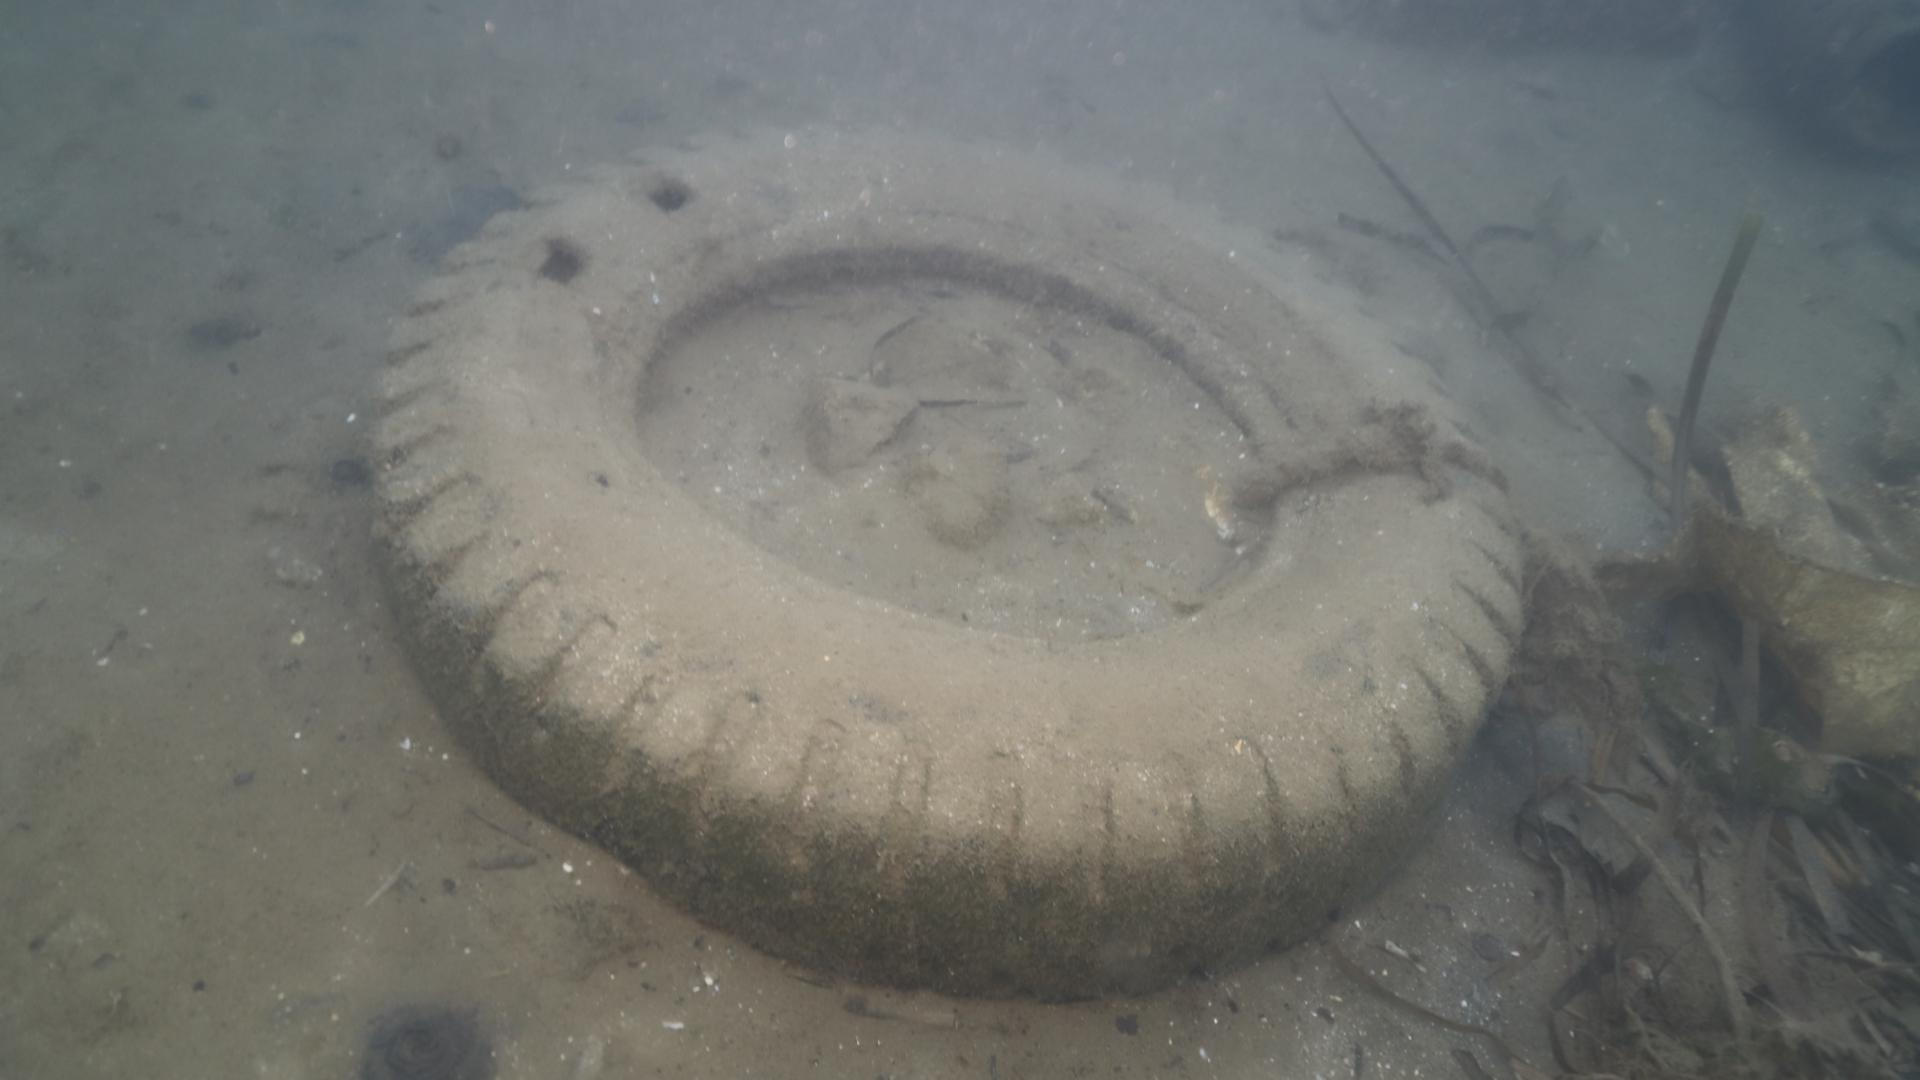bundle of ropes: (1211, 393, 1516, 518)
tire: (351, 115, 1540, 1006)
